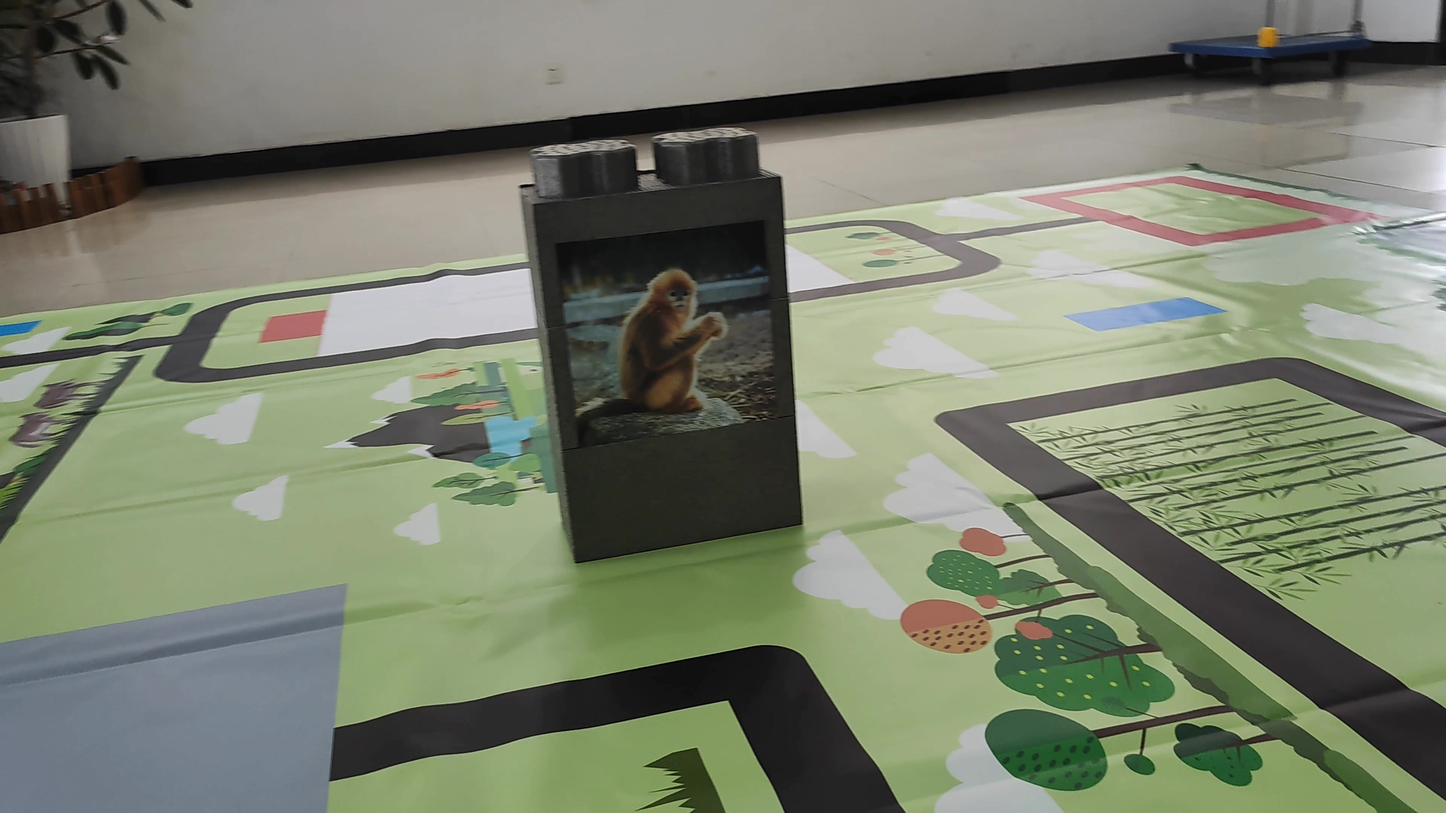monkey: (563, 257, 739, 442)
